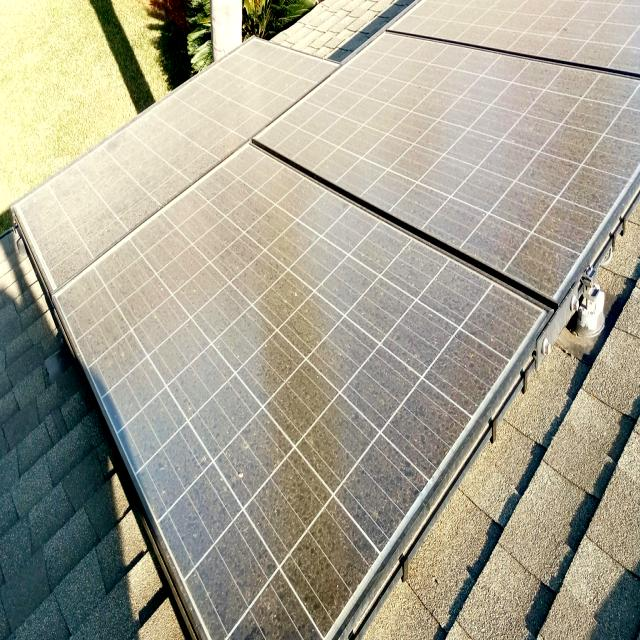dust: (124, 256, 428, 454), (376, 86, 588, 195), (116, 123, 276, 231)
